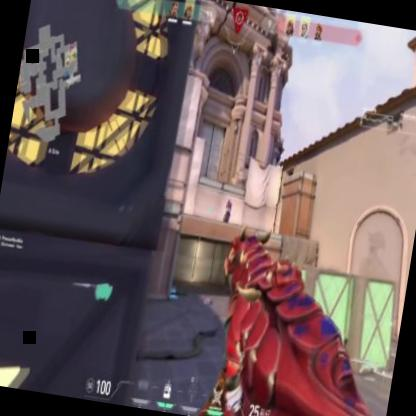enemy: (223, 198, 232, 222)
enemy_head: (226, 199, 230, 204)
